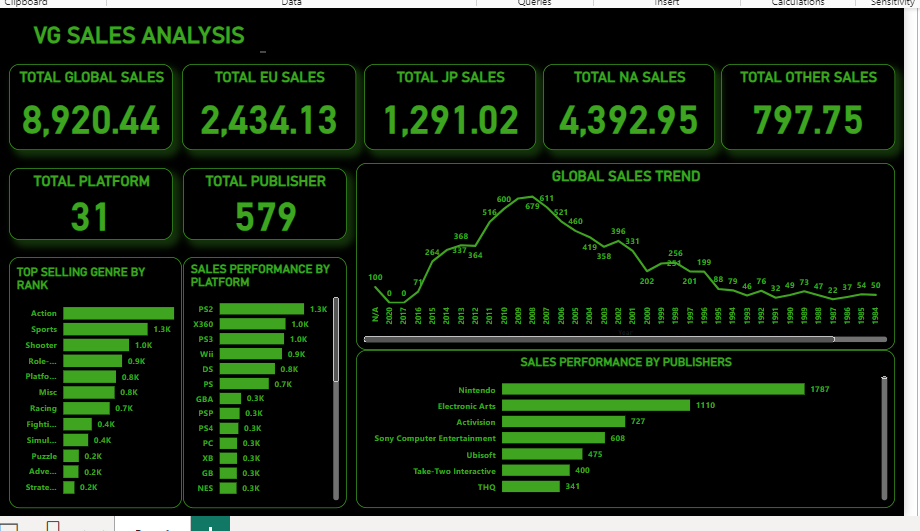

The page's visual inventory and layout, read from the dashboard file:
{"tool":"powerbi","page":{"name":"Page 1","canvas":[1280,720],"ordinal":0},"visuals":[{"type":"card","title":"TOTAL GLOBAL SALES","fields":{"Values":["Sum(Table1.Global_Sales)"]},"box":[12.8,79.4,232.4,121.9],"z":0},{"type":"card","title":"TOTAL EU SALES","fields":{"Values":["Sum(Table1.EU_Sales)"]},"box":[258,79.4,246.6,121.9],"z":1000},{"type":"card","title":"TOTAL OTHER SALES","fields":{"Values":["Sum(Table1.Other_Sales)"]},"box":[1021.9,79.4,246.6,121.9],"z":2000},{"type":"card","title":"TOTAL JP SALES","fields":{"Values":["Sum(Table1.JP_Sales)"]},"box":[515.9,79.4,243.8,121.9],"z":3000},{"type":"card","title":"TOTAL NA SALES","fields":{"Values":["Sum(Table1.NA_Sales)"]},"box":[769.6,79.4,243.8,121.9],"z":4000},{"type":"card","title":"TOTAL PLATFORM","fields":{"Values":["Count(Table1.Platform)"]},"box":[12.8,226.8,232.4,102],"z":5000},{"type":"card","title":"TOTAL PUBLISHER","fields":{"Values":["Count(Table1.Publisher)"]},"box":[259.4,226.8,232.4,102],"z":6000},{"type":"lineChart","title":"GLOBAL SALES TREND","fields":{"Y":["Sum(Table1.Global_Sales)"],"Category":["Table1.Year"]},"box":[504.6,219.7,763.9,265],"z":7000},{"type":"clusteredBarChart","title":"TOP SELLING GENRE BY RANK","fields":{"Category":["Table1.Genre"],"Y":["Sum(Table1.Global_Sales)"]},"box":[12.8,352.9,245.2,355.7],"z":8000},{"type":"clusteredBarChart","title":"SALES PERFORMANCE BY PLATFORM","fields":{"Y":["Sum(Table1.Global_Sales)"],"Category":["Table1.Platform"]},"box":[259,353,232,356],"z":9000},{"type":"clusteredBarChart","title":"SALES PERFORMANCE BY PUBLISHERS ","fields":{"Y":["Sum(Table1.Global_Sales)"],"Category":["Table1.Publisher"]},"box":[505,485,764,224],"z":10000},{"type":"textbox","title":"VG SALES ANALYSIS","box":[12.8,19.8,368.5,48.2],"z":11000}]}

Visuals, with their boxes on the page's 1280x720 design canvas (x1, y1, x2, y2). These are canvas units, not pixel positions in the 920x531 screenshot, which may show the page scaled, cropped or inside an application window:
"TOTAL GLOBAL SALES" card: x1=13 y1=79 x2=245 y2=201
"TOTAL EU SALES" card: x1=258 y1=79 x2=505 y2=201
"TOTAL OTHER SALES" card: x1=1022 y1=79 x2=1268 y2=201
"TOTAL JP SALES" card: x1=516 y1=79 x2=760 y2=201
"TOTAL NA SALES" card: x1=770 y1=79 x2=1013 y2=201
"TOTAL PLATFORM" card: x1=13 y1=227 x2=245 y2=329
"TOTAL PUBLISHER" card: x1=259 y1=227 x2=492 y2=329
"GLOBAL SALES TREND" lineChart: x1=505 y1=220 x2=1268 y2=485
"TOP SELLING GENRE BY RANK" clusteredBarChart: x1=13 y1=353 x2=258 y2=709
"SALES PERFORMANCE BY PLATFORM" clusteredBarChart: x1=259 y1=353 x2=491 y2=709
"SALES PERFORMANCE BY PUBLISHERS " clusteredBarChart: x1=505 y1=485 x2=1269 y2=709
"VG SALES ANALYSIS" textbox: x1=13 y1=20 x2=381 y2=68
